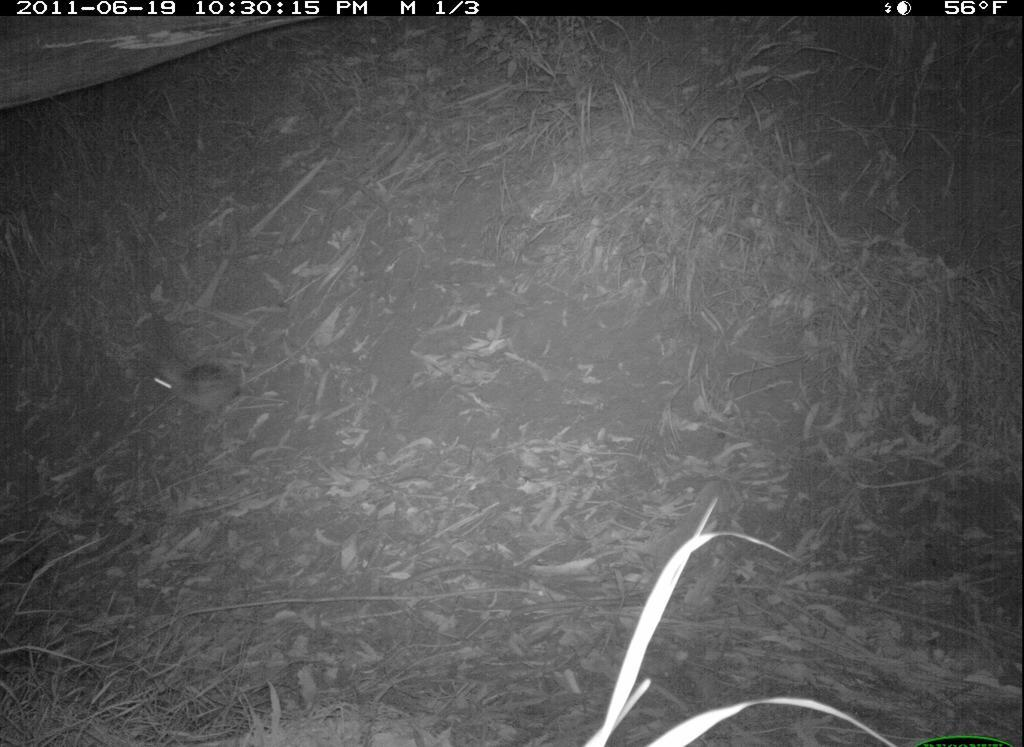rabbit: (134, 347, 258, 428)
